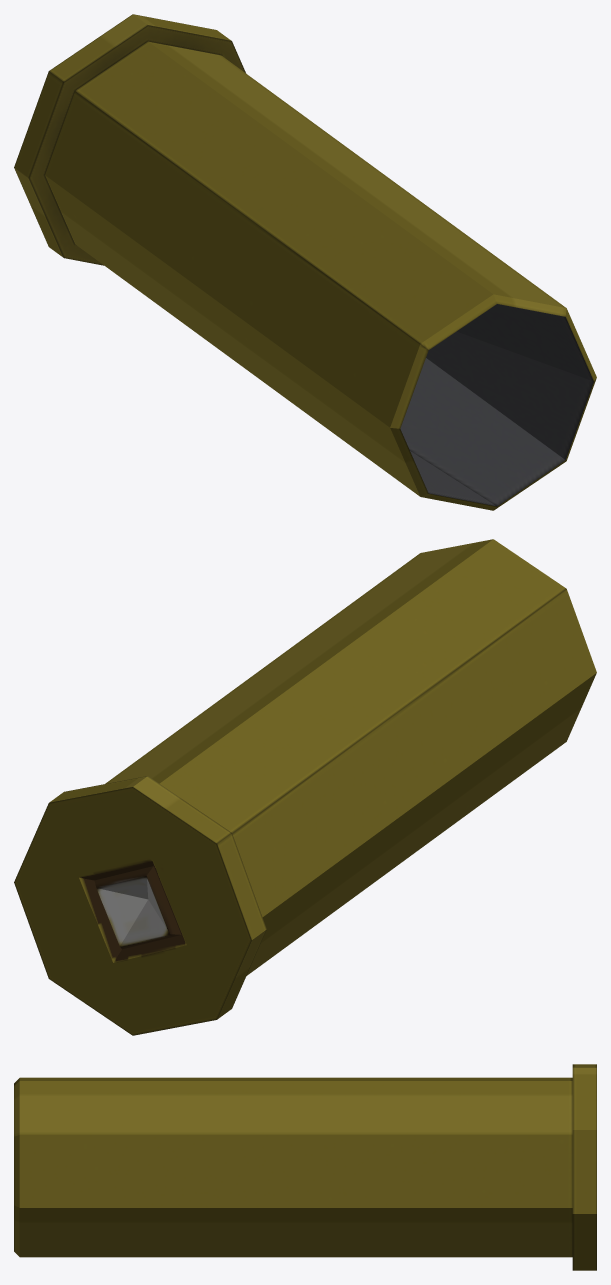
Rendered from 35_special_casing.FBX.
The picture shows the model from 3 angles, top to bottom: view 1: azimuth 30°, elevation 25°; view 2: azimuth 150°, elevation 25°; view 3: azimuth 270°, elevation 25°; orthographic projection. The views are drawn at different scales.
Parts seen in each view (by area): view 1: Cylinder01; view 2: Cylinder01; view 3: Cylinder01.
Boxes of the visible parts, left/top/right/bottom form: Cylinder01: left=14, top=14, right=596, bottom=510; Cylinder01: left=14, top=539, right=596, bottom=1035; Cylinder01: left=14, top=1064, right=596, bottom=1270.
Bounding box in the file's own units: 0.011 × 0.011 × 0.0293.
